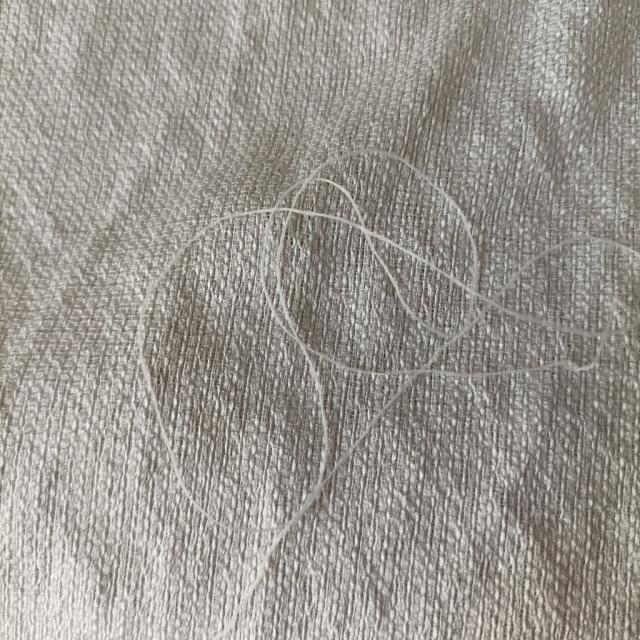Thread: (133, 136, 640, 640)
